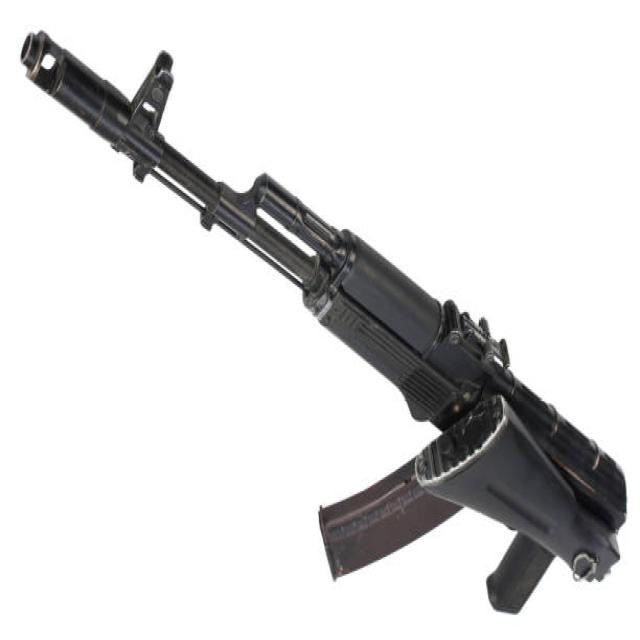rifle: (15, 18, 635, 637)
